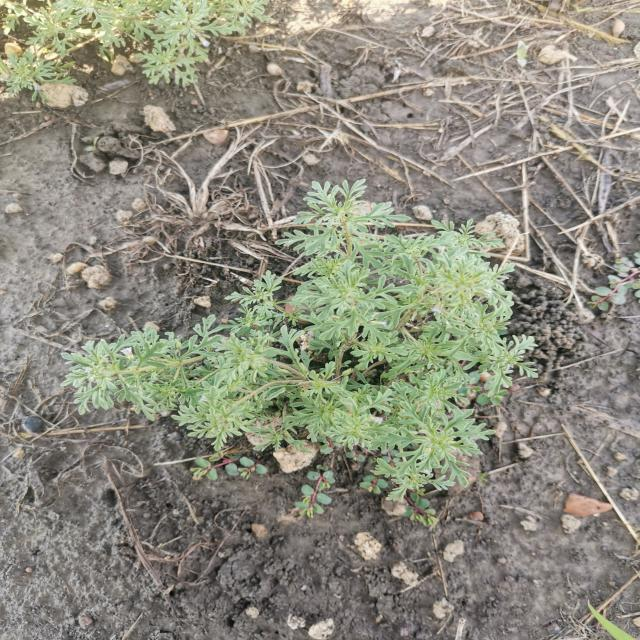Ragweed: (60, 178, 543, 505), (2, 2, 280, 103)
SpottedSpurge: (186, 448, 444, 528), (584, 251, 639, 312)
